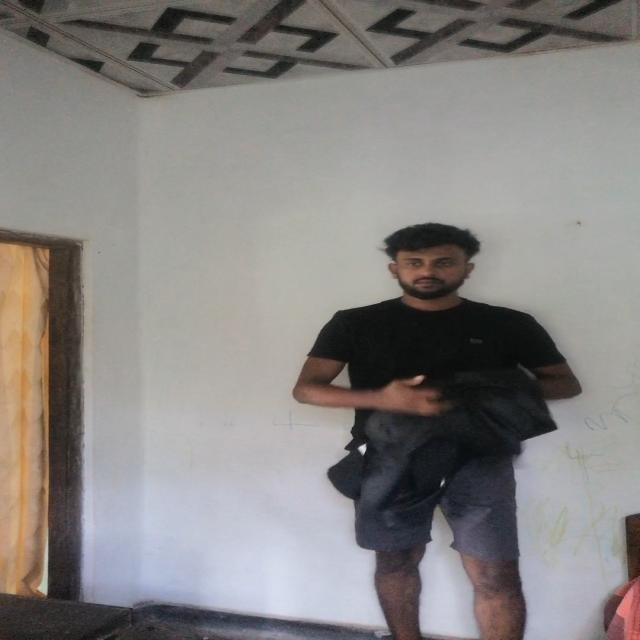Person: (293, 221, 569, 625)
